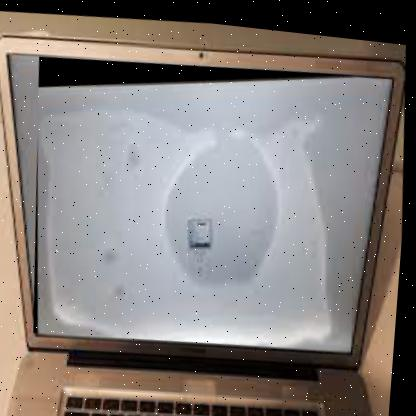fade: (22, 38, 371, 360)
